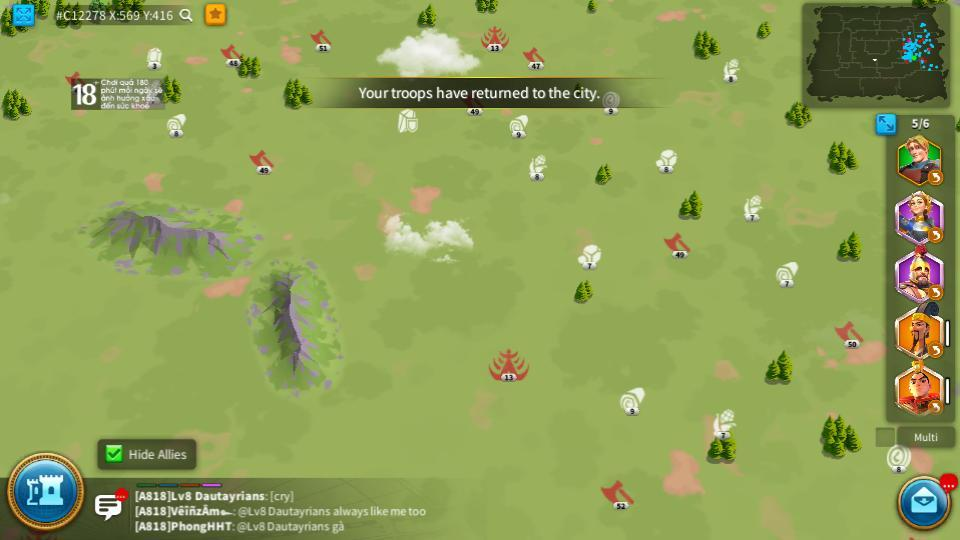gem-z-out: (145, 46, 164, 67)
march_returning: (927, 170, 944, 185), (927, 402, 944, 414), (928, 229, 942, 242), (929, 286, 942, 299), (928, 345, 942, 356)
